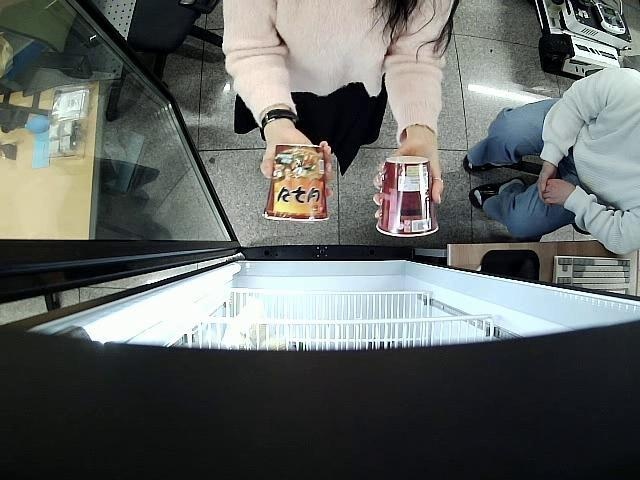06_nuguri_S: (263, 142, 331, 223), (376, 155, 438, 236)
